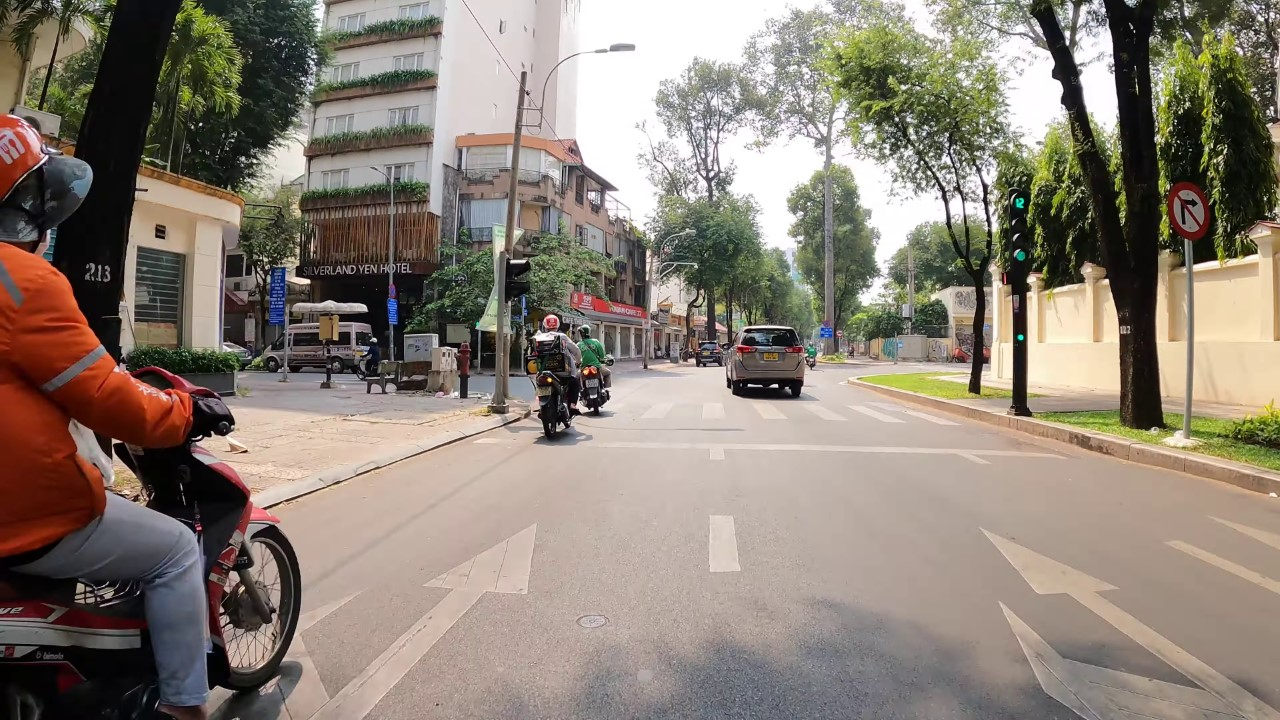cam_re_phai: (1167, 180, 1214, 239)
